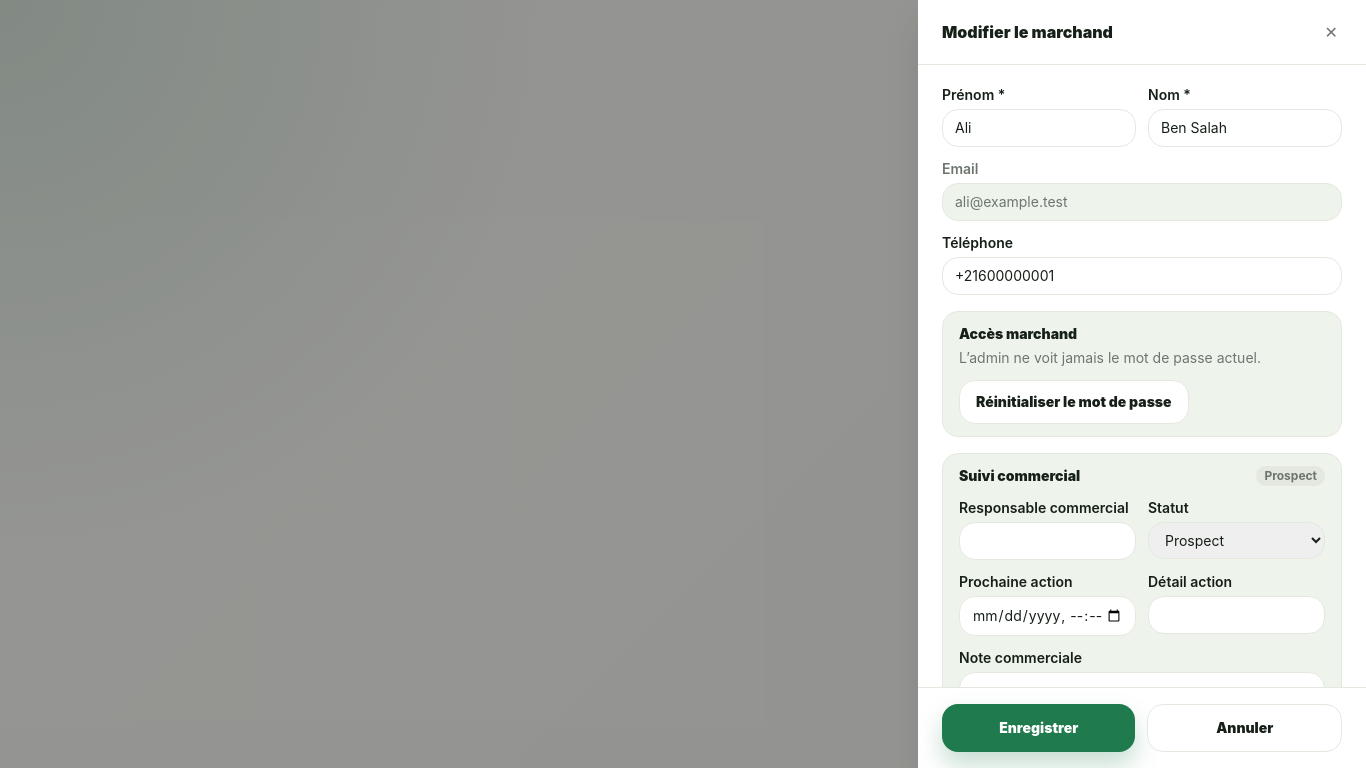
Test: MerchantDrawer › appelle resetMerchantTemporaryPassword et affiche le mot de passe temporaire une seule fois
The width and height of the screenshot is (1366, 768).
Click the button "Réinitialiser le mot de passe".
click(1074, 402)  # box [959,380,1189,424]
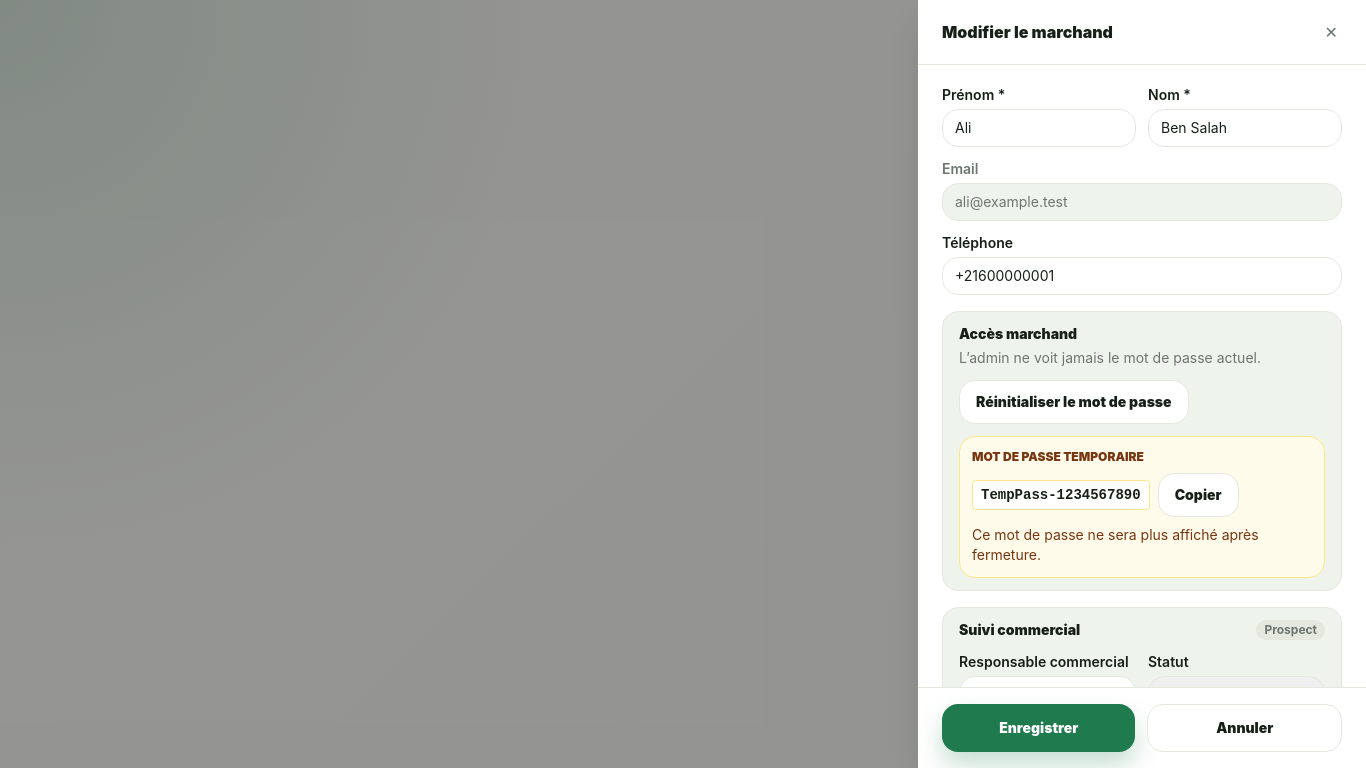
Expected: the text "TempPass-1234567890" is shown, [972,480,1150,510]
Expected: the text "Ce mot de passe ne sera plus affiché après fermeture." is shown, [972,526,1259,563]
